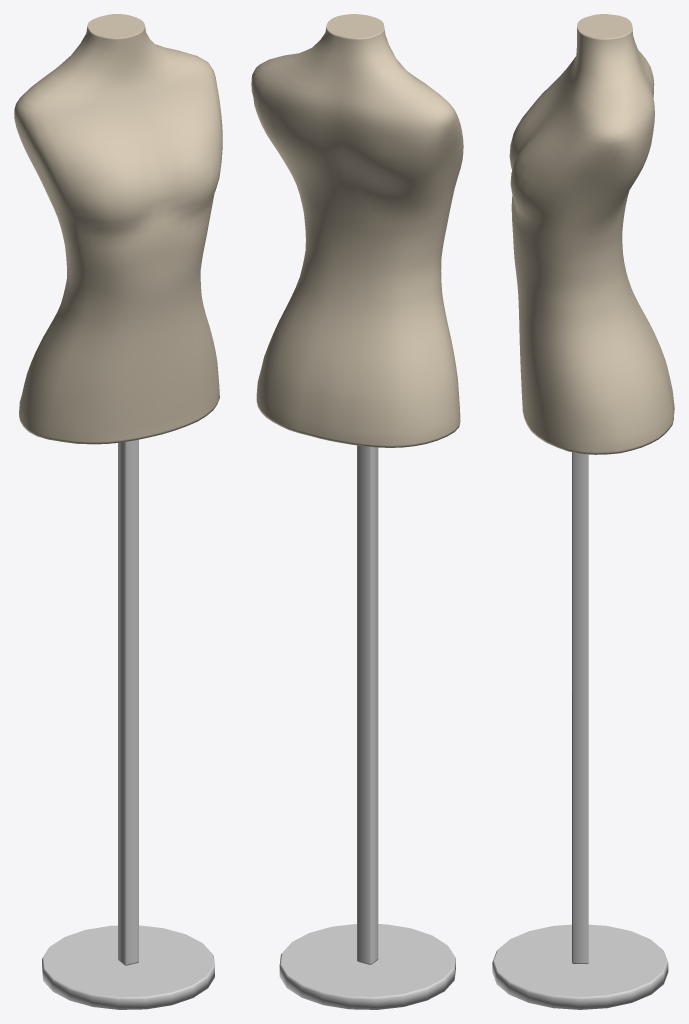
File: female_mannequin.glb
3 renders of one model, left to right at view 1: azimuth 30°, elevation 25°; view 2: azimuth 150°, elevation 25°; view 3: azimuth 270°, elevation 25°, orthographic.
Visible parts, largest first — view 1: Mannequin; view 2: Mannequin; view 3: Mannequin.
Part boxes in pixels (x1,y1,x2,y2): Mannequin: (14,14,222,1009); Mannequin: (251,14,463,1009); Mannequin: (492,14,674,1009).
Size of the model in its own units: 0.2997 by 1.4 by 0.244.
